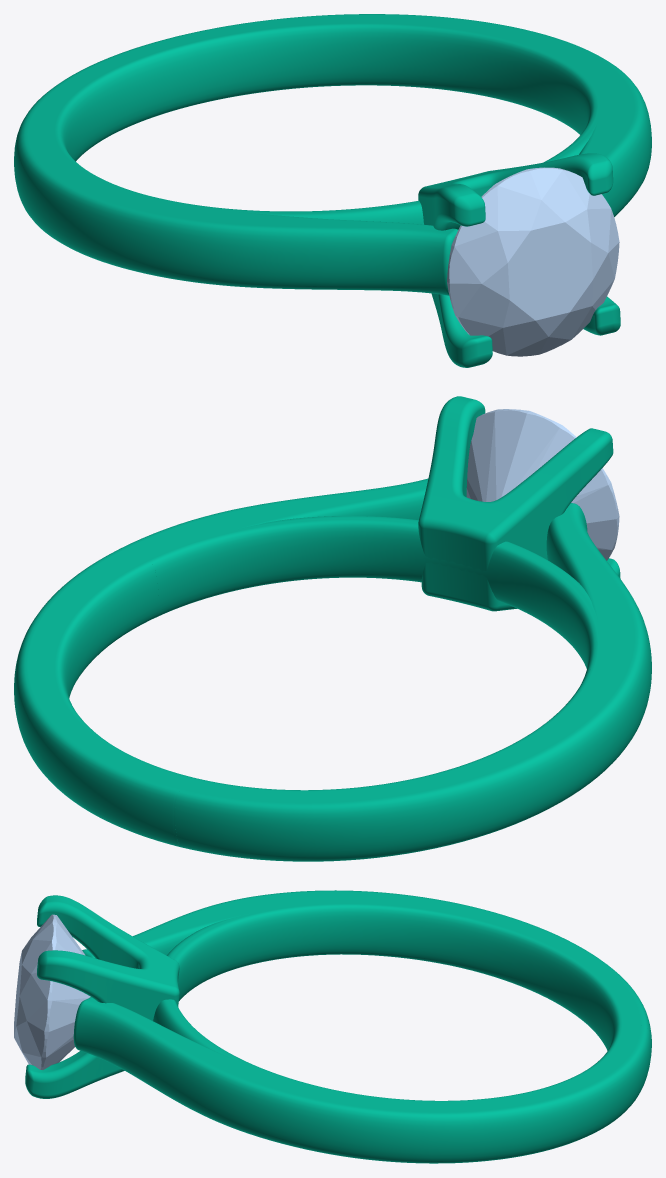
3 renders of one model, top to bottom at view 1: azimuth 30°, elevation 25°; view 2: azimuth 150°, elevation 25°; view 3: azimuth 270°, elevation 25°, orthographic. The views are drawn at different scales.
Visible parts, largest first — view 1: JTC 6284(base).3dm, Diamond_Round; view 2: JTC 6284(base).3dm, Diamond_Round; view 3: JTC 6284(base).3dm, Diamond_Round.
Part boxes in pixels (x1,y1,x2,y2): JTC 6284(base).3dm: [14, 14, 651, 367]; Diamond_Round: [447, 167, 619, 356]; JTC 6284(base).3dm: [14, 396, 651, 861]; Diamond_Round: [466, 409, 619, 560]; JTC 6284(base).3dm: [25, 890, 651, 1163]; Diamond_Round: [14, 914, 90, 1069].
Bounding box in the file's own units: 2.53 × 0.7905 × 3.
